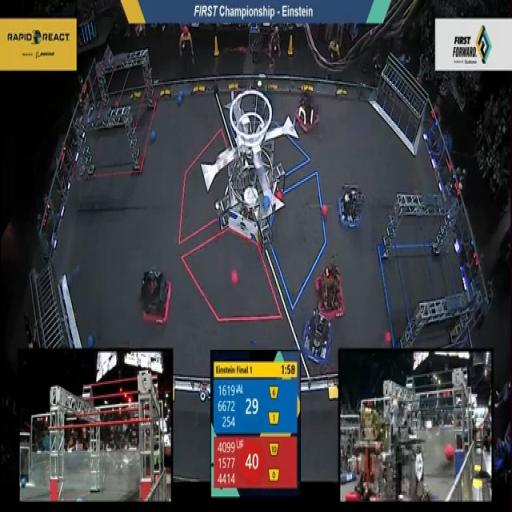robot: (135, 263, 174, 326), (313, 260, 348, 323), (300, 308, 334, 366), (290, 78, 322, 135), (335, 179, 366, 235)
